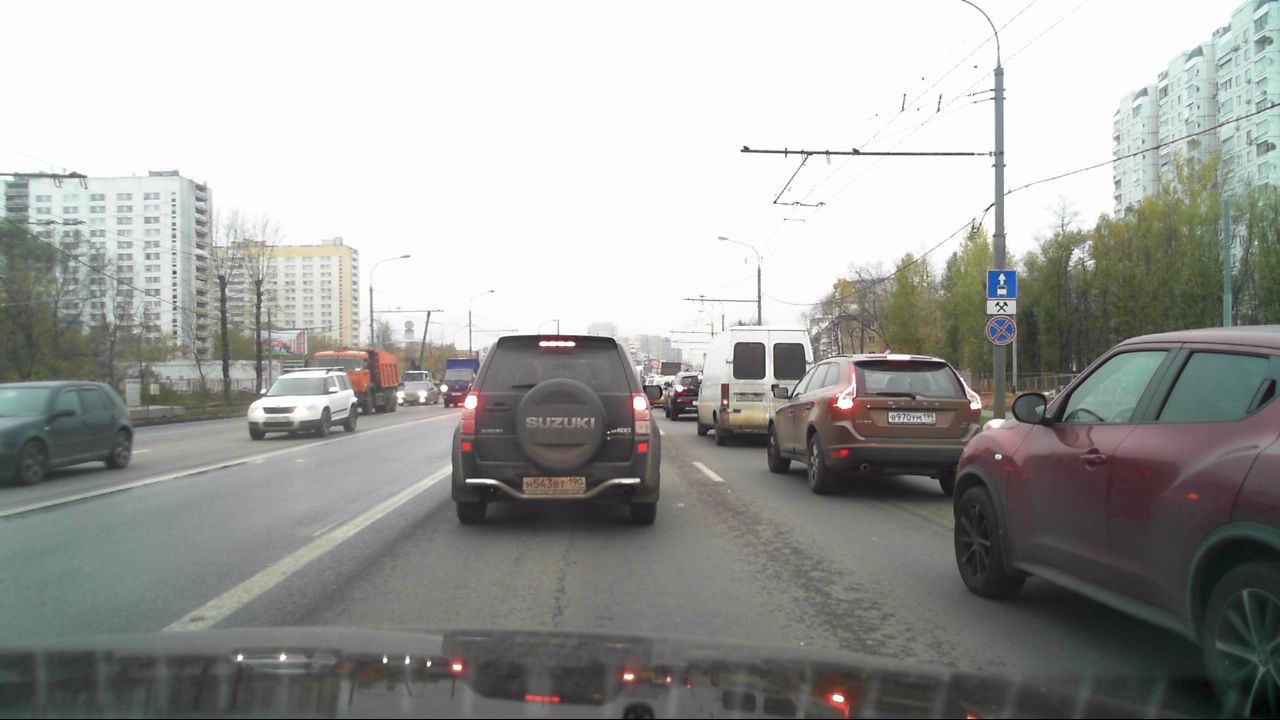No Parking: (985, 315, 1017, 346)
